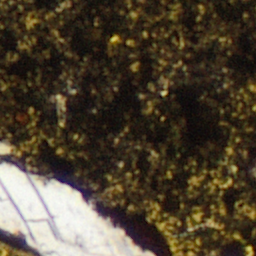cement_matrix: (0, 0, 255, 255), (0, 226, 47, 255)
gravel_crushed_stones: (0, 166, 142, 255), (0, 143, 11, 156)
